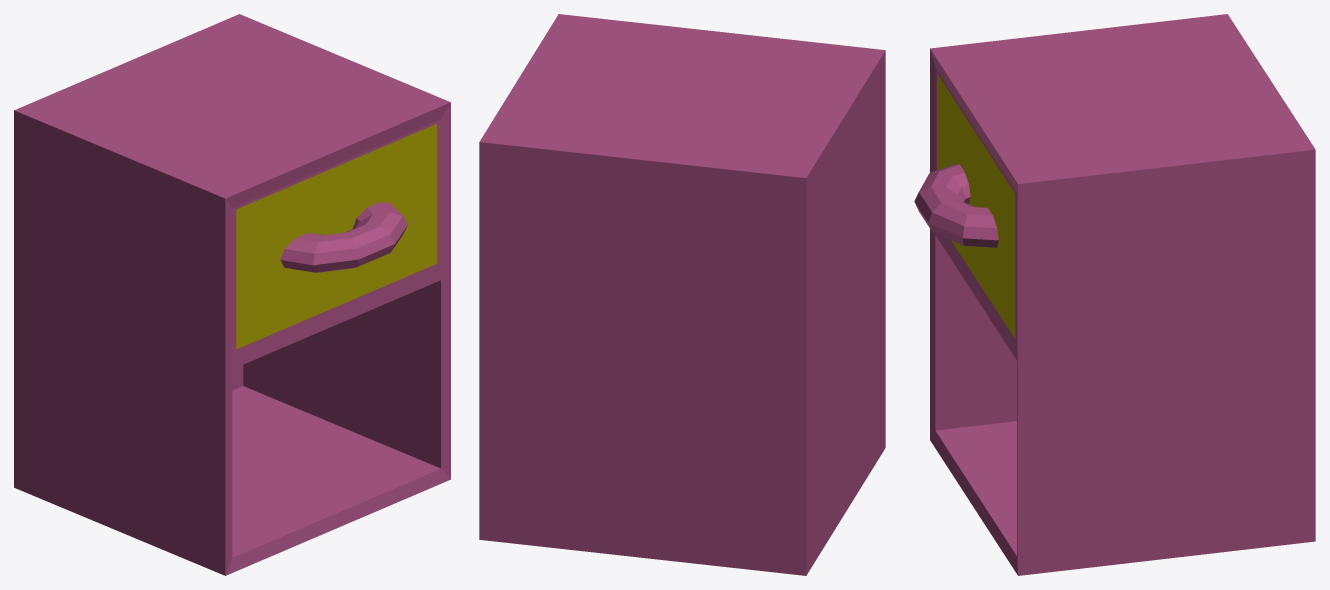
The model's file is BedSideTable_01.fbx.
3 renders of one model, left to right at view 1: azimuth 30°, elevation 25°; view 2: azimuth 150°, elevation 25°; view 3: azimuth 270°, elevation 25°, orthographic. The views are drawn at different scales.
Parts seen in each view (by area): view 1: Handle_02; view 2: Handle_02; view 3: Handle_02.
Boxes of the visible parts, x1,y1,x2,y2 form: Handle_02: (14,14,450,575); Handle_02: (479,14,885,575); Handle_02: (914,14,1315,575).
Bounding box in the file's own units: 9.2 × 9.88 × 9.18.
